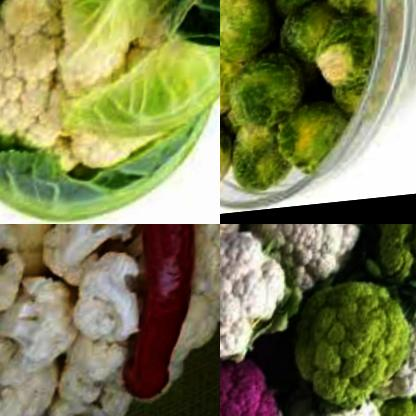brus capusta: (220, 0, 413, 209)
cayliflower: (0, 0, 220, 224), (0, 224, 155, 416), (293, 267, 416, 416), (220, 227, 300, 371), (252, 224, 370, 311), (165, 224, 220, 396), (353, 224, 416, 306), (220, 352, 296, 416), (378, 297, 416, 414), (281, 391, 398, 416), (220, 224, 257, 295)
hot pepper: (90, 224, 201, 416)
